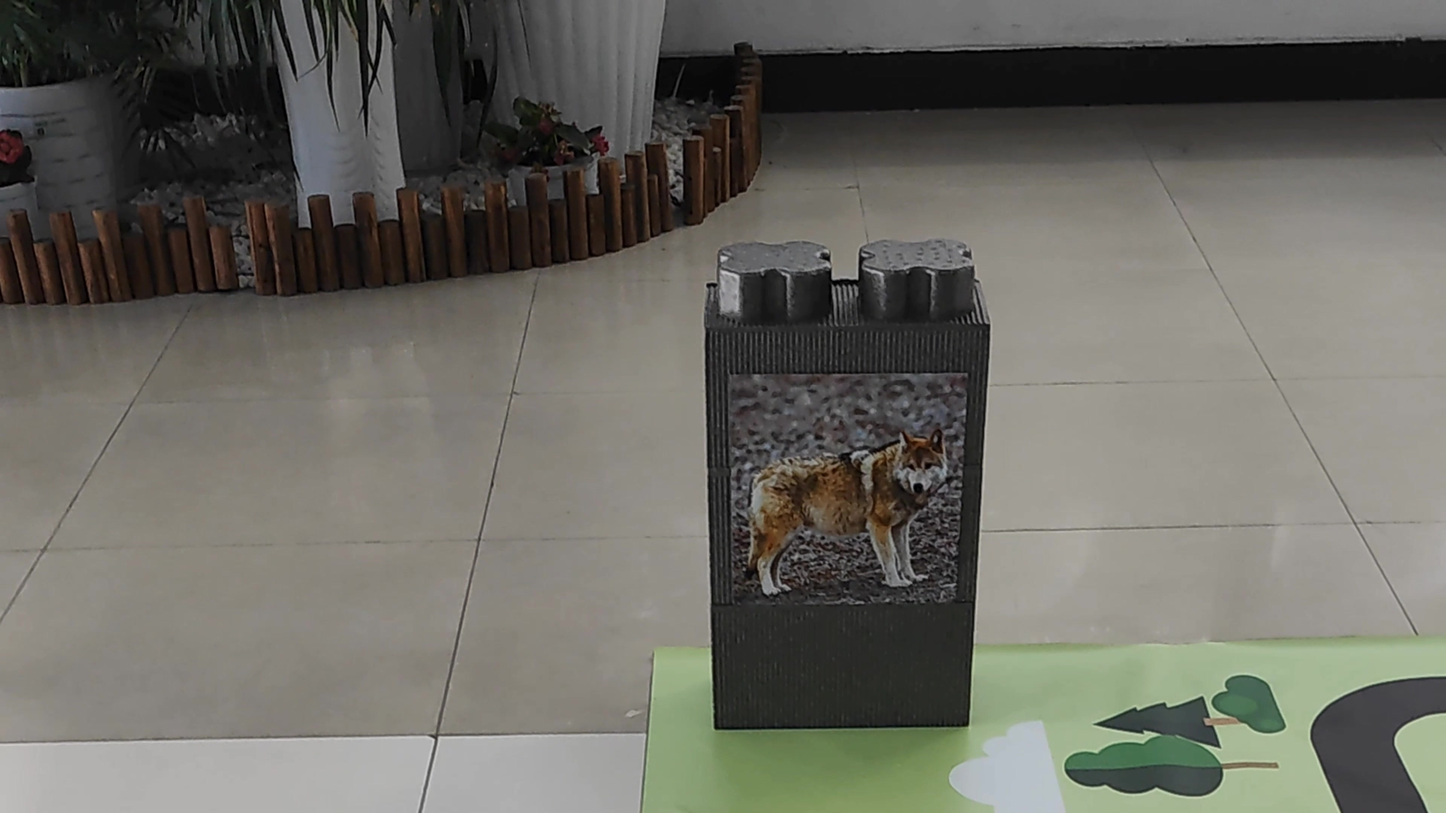wolf: (732, 381, 962, 586)
